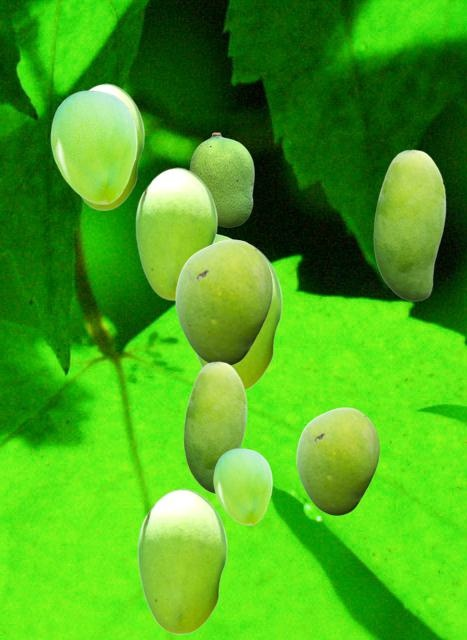green_mango: (137, 488, 226, 633), (196, 243, 281, 390), (175, 239, 271, 365), (373, 149, 445, 300), (135, 167, 216, 299), (50, 90, 136, 203), (296, 407, 378, 514), (183, 361, 246, 493), (80, 83, 143, 209), (189, 132, 253, 226), (213, 448, 271, 524), (215, 233, 232, 241)
